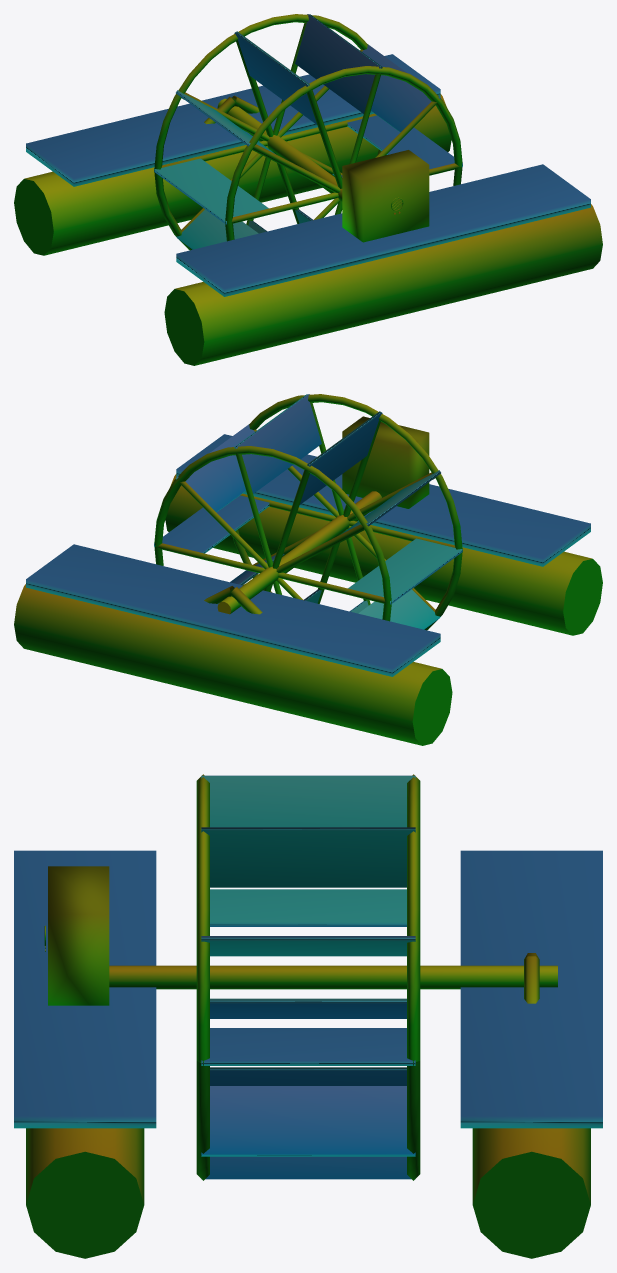
The model's file is hm_tide_wheel.glb.
The picture shows the model from 3 angles, top to bottom: view 1: azimuth 30°, elevation 25°; view 2: azimuth 150°, elevation 25°; view 3: azimuth 270°, elevation 25°; orthographic projection. The views are drawn at different scales.
Visible parts, largest first — view 1: hm_tide_wheel; view 2: hm_tide_wheel; view 3: hm_tide_wheel.
Boxes of the visible parts, x1,y1,x2,y2 form: hm_tide_wheel: (14, 14, 602, 365); hm_tide_wheel: (14, 394, 602, 745); hm_tide_wheel: (14, 774, 602, 1258).
Size of what is drawn, in the model's own units: 5.2 by 3.1 by 4.48.
